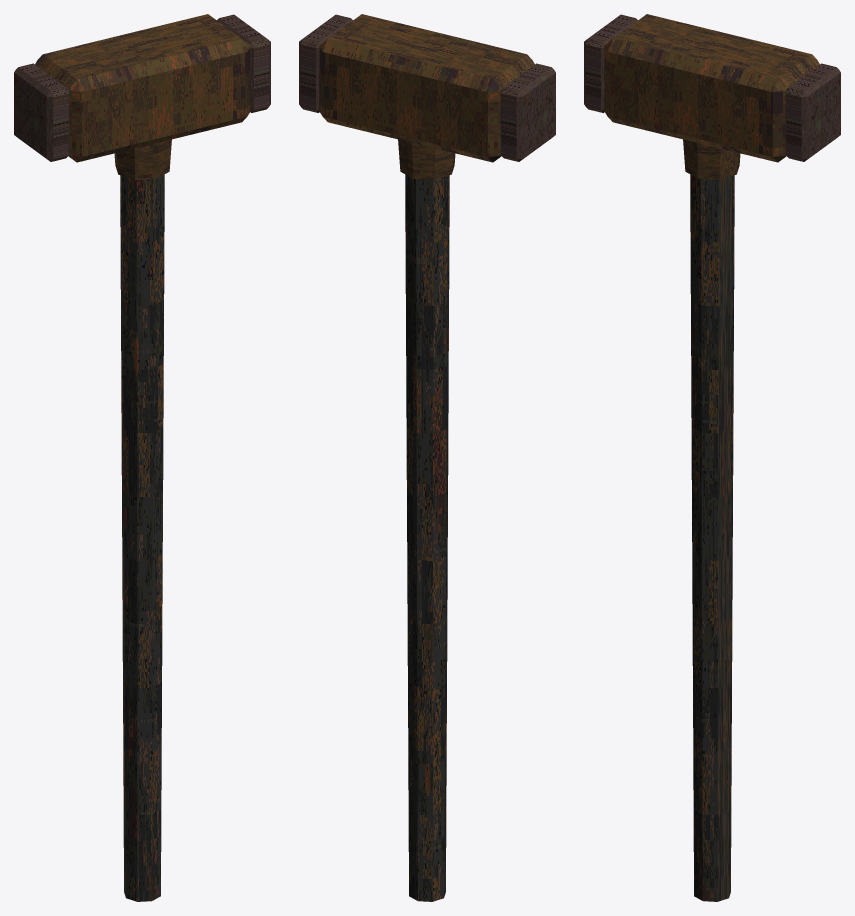
File: FieldHammer.glb
The picture shows the model from 3 angles, left to right: view 1: azimuth 30°, elevation 25°; view 2: azimuth 150°, elevation 25°; view 3: azimuth 330°, elevation 25°; orthographic projection.
Visible parts, largest first — view 1: FieldHammer; view 2: FieldHammer; view 3: FieldHammer.
Part boxes in pixels (x1=…): FieldHammer: x1=14, y1=14, x2=270, y2=901; FieldHammer: x1=299, y1=14, x2=555, y2=901; FieldHammer: x1=584, y1=14, x2=840, y2=901.
Size of the model in its own units: 0.152 by 0.549 by 0.052.
Materials: 1 (1 with a texture image).
